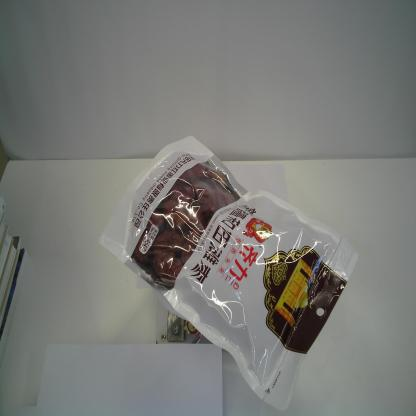Dried Food: (98, 136, 359, 413)
